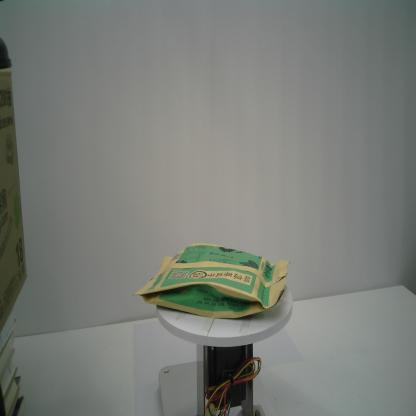Dried Food: (132, 242, 292, 318)
